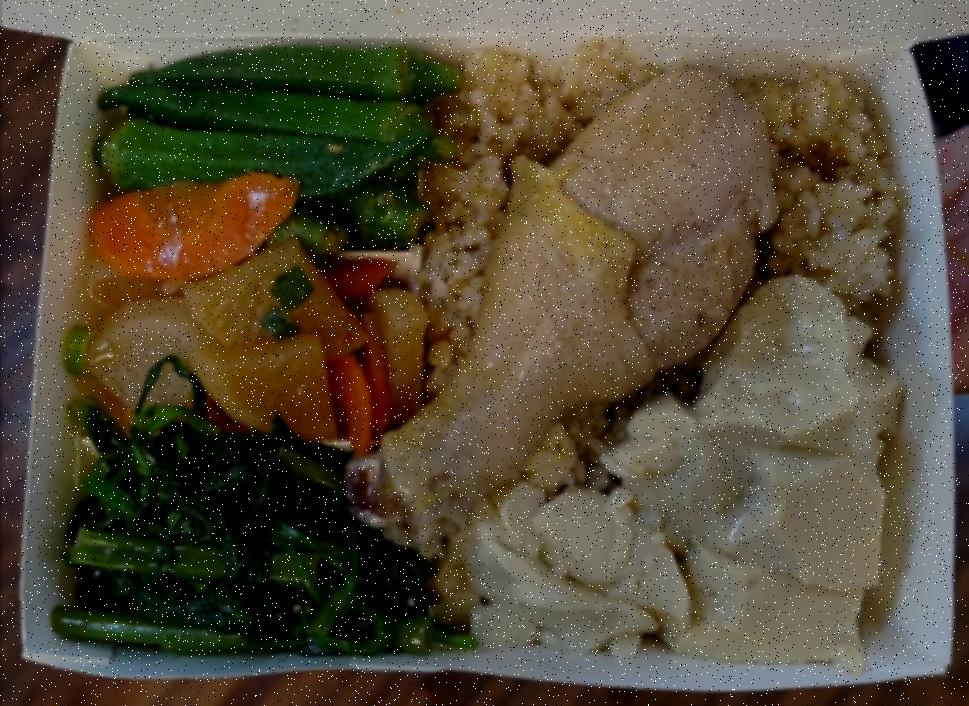box: (15, 45, 952, 692)
brown rice: (424, 65, 904, 519)
side dish: (466, 282, 907, 656), (48, 407, 442, 654), (82, 180, 427, 442), (87, 49, 464, 251)
small herbal chicken leg: (346, 64, 785, 554)
